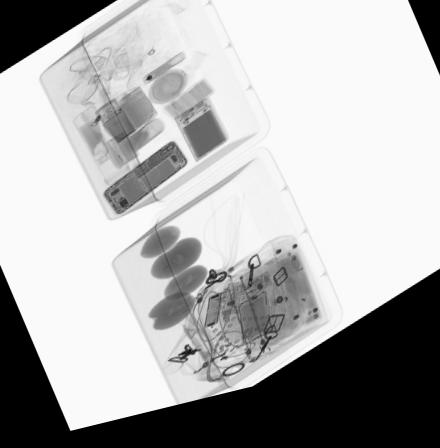Powerbank: (171, 105, 230, 173)
